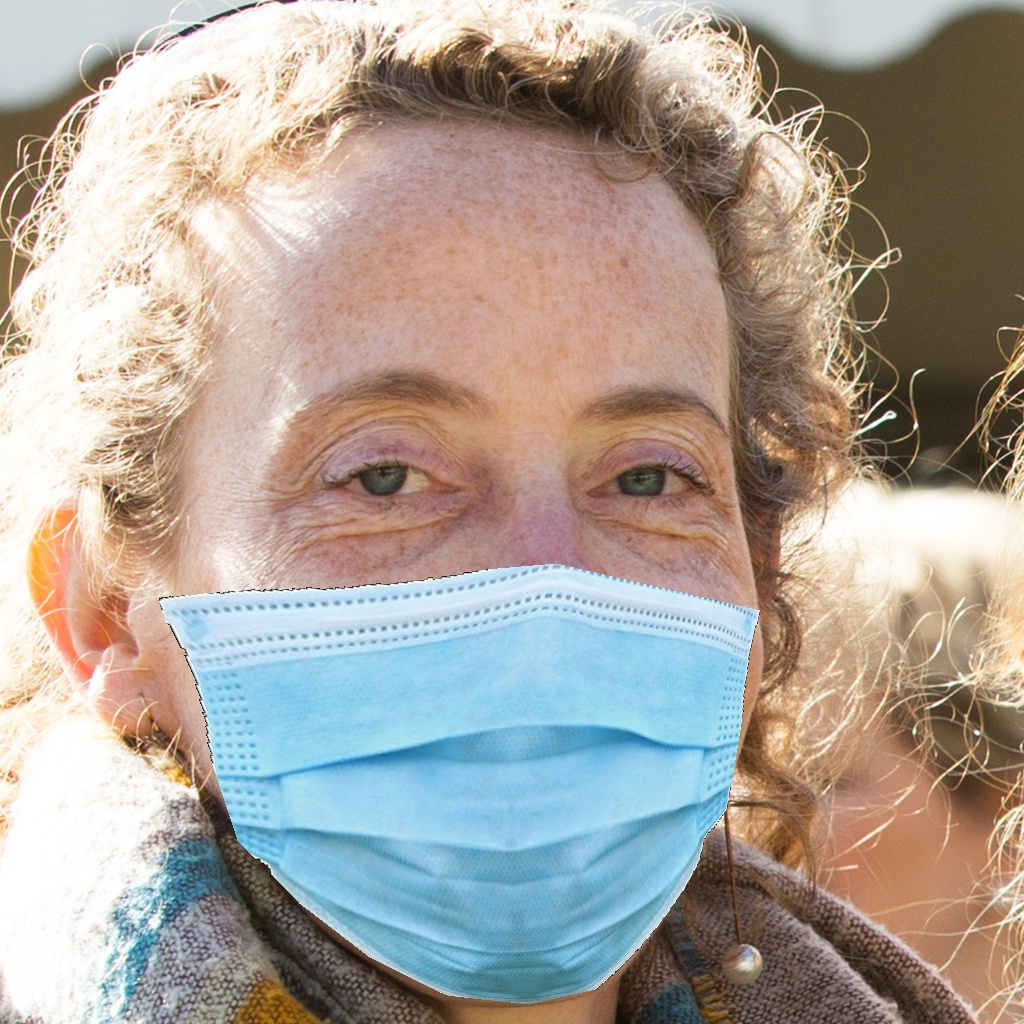Mask: (159, 356, 766, 1007)
